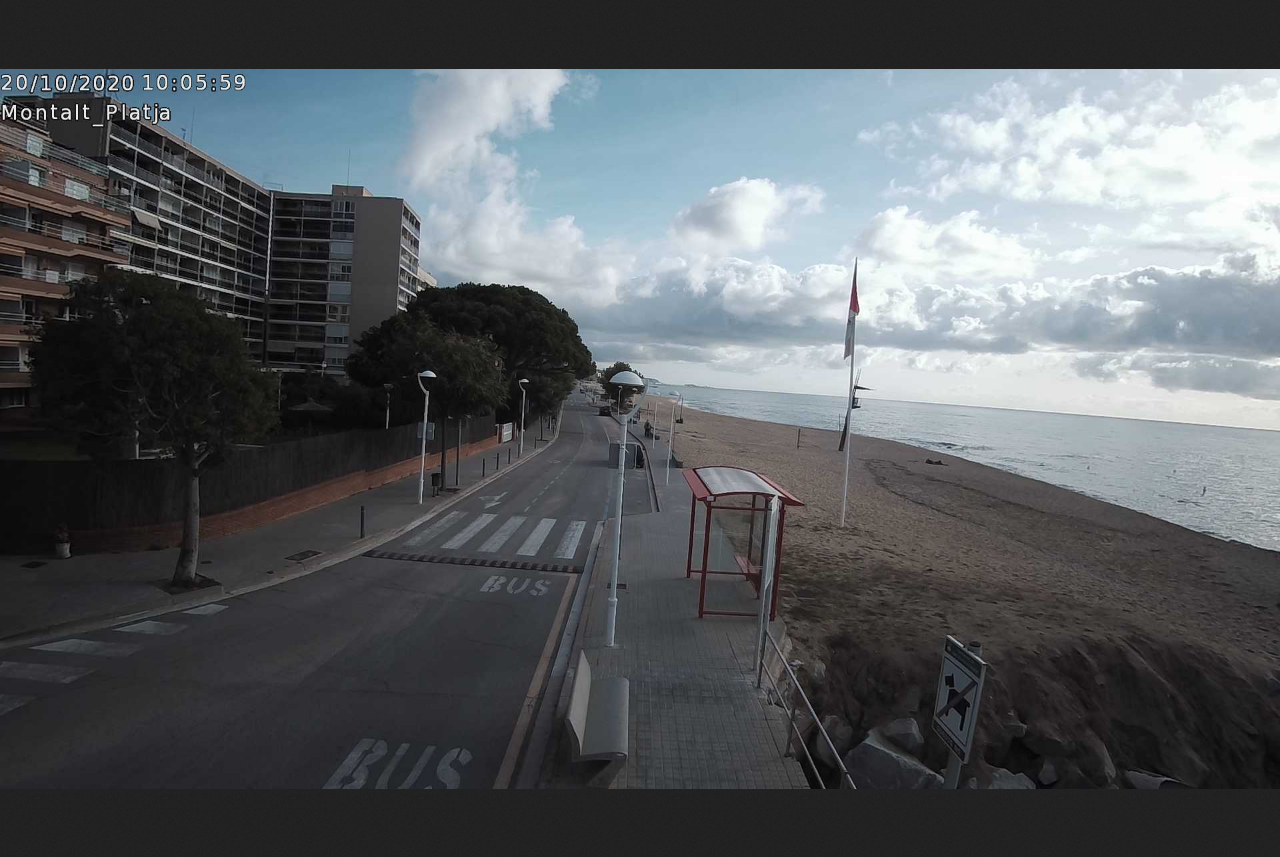no: (841, 246, 867, 366)
